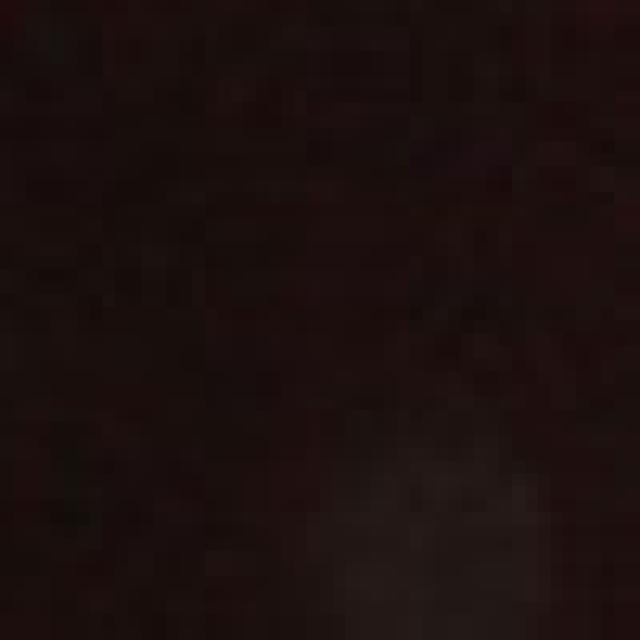no_fire: (66, 7, 640, 575)
